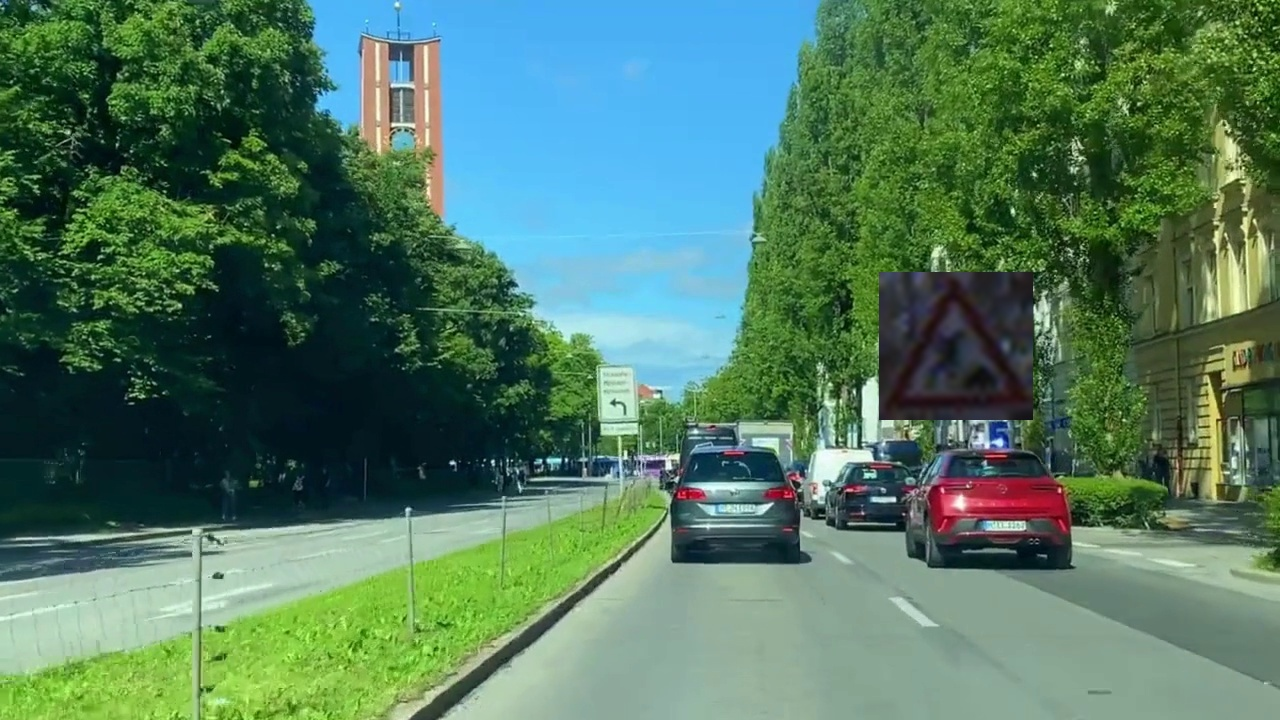Road work: (879, 272, 1033, 420)
